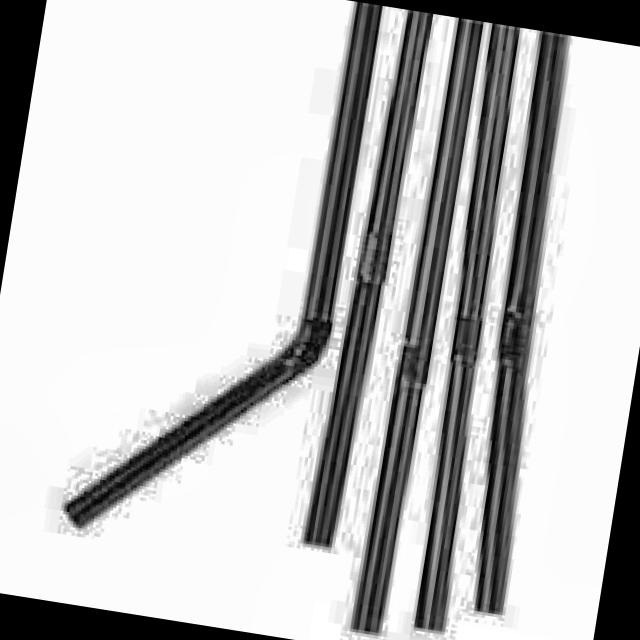plastic straw: (67, 3, 382, 527), (352, 18, 484, 634), (304, 11, 432, 547), (415, 24, 520, 631), (476, 32, 567, 614)
